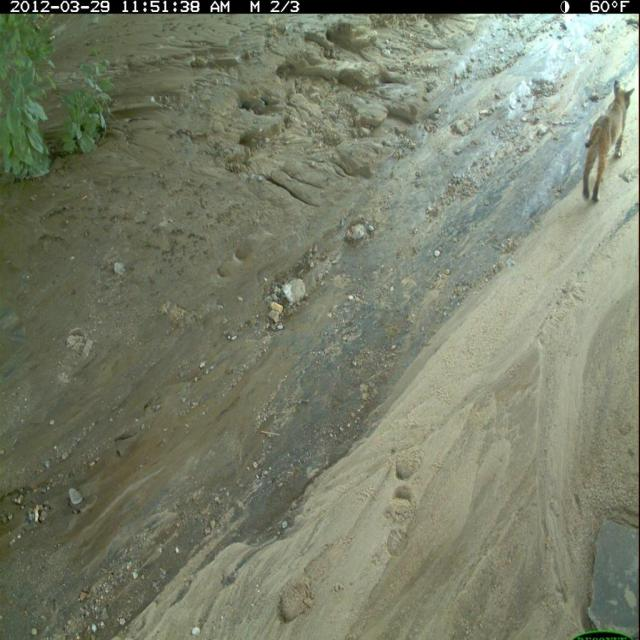bobcat: (582, 78, 639, 208)
